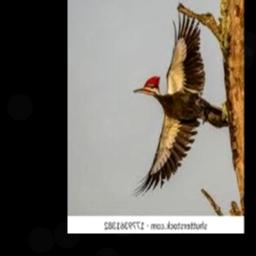Woodpecker: (130, 11, 230, 199)
